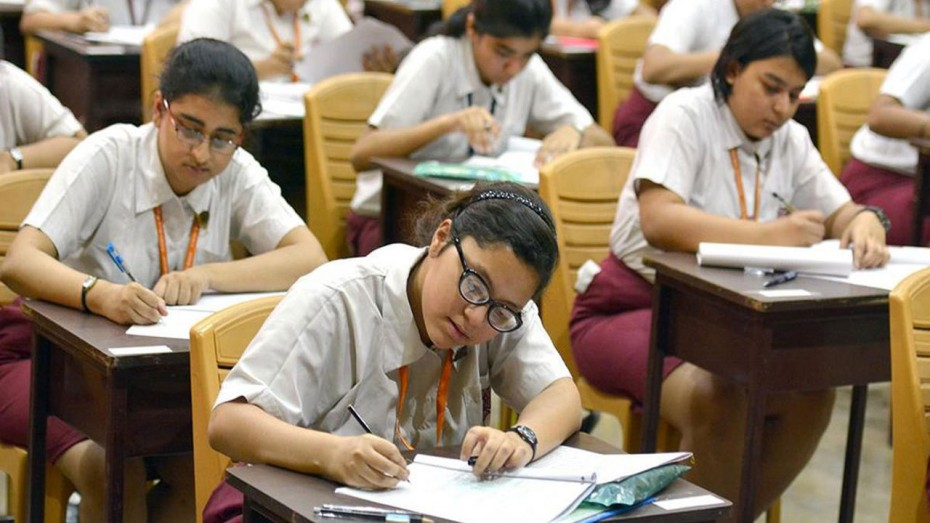student: (270, 174, 595, 497), (25, 68, 318, 347), (642, 16, 900, 319), (330, 1, 637, 211)
